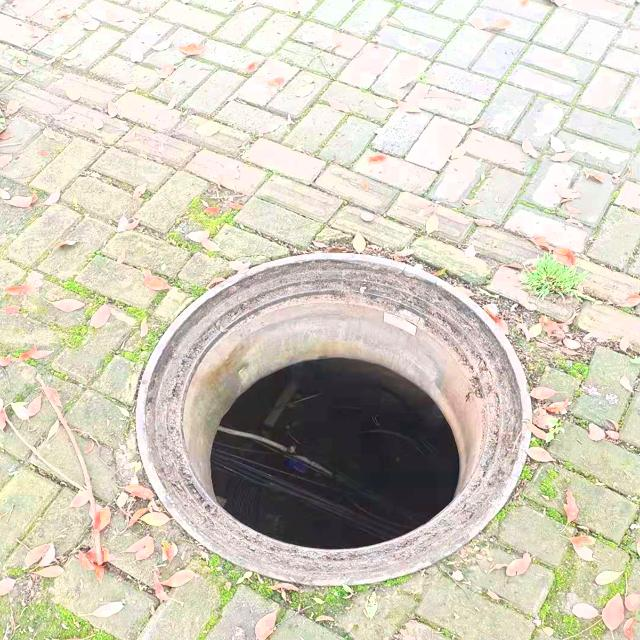lose: (135, 251, 533, 591)
